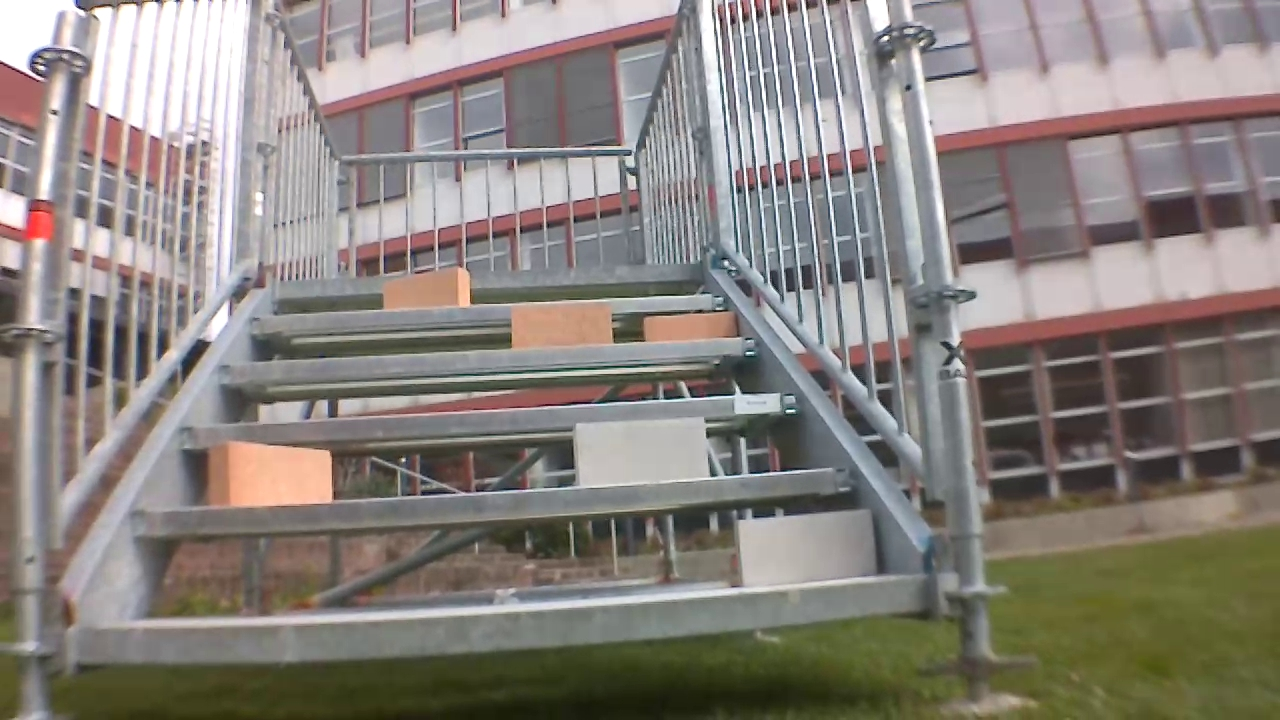brick: (735, 509, 878, 589), (572, 418, 709, 486), (207, 442, 332, 508), (511, 301, 613, 348), (383, 267, 469, 310), (642, 312, 735, 340)
edge: (76, 574, 927, 664), (134, 469, 848, 535), (182, 394, 798, 447), (219, 338, 756, 378), (249, 295, 725, 332), (279, 264, 700, 294)
stairs: (6, 4, 1029, 715)
steps: (71, 261, 932, 673)
